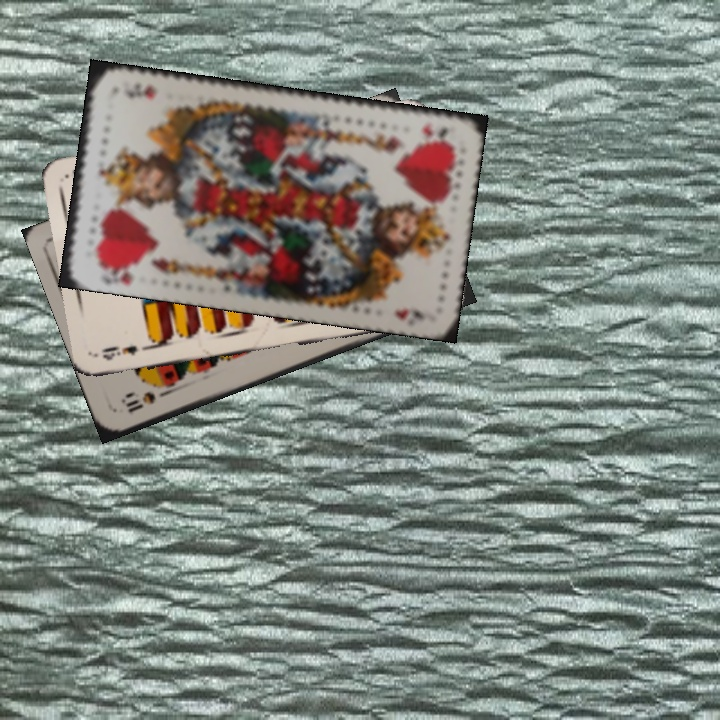E9: (98, 340, 154, 363)
HK: (418, 120, 457, 146), (110, 260, 141, 287)
S10: (118, 386, 173, 416)
